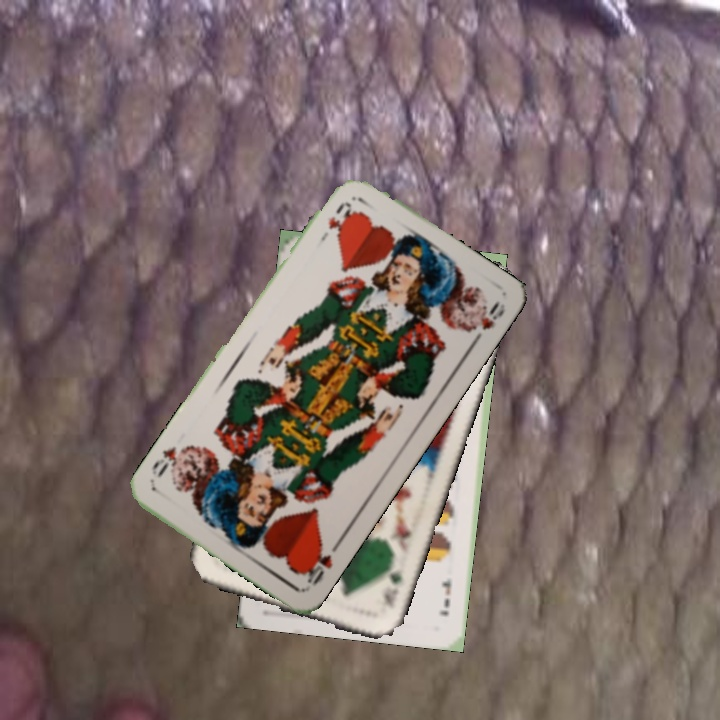E7: (435, 576, 454, 619)
GK: (379, 558, 405, 606)
HO: (299, 538, 343, 589), (314, 197, 355, 246)
